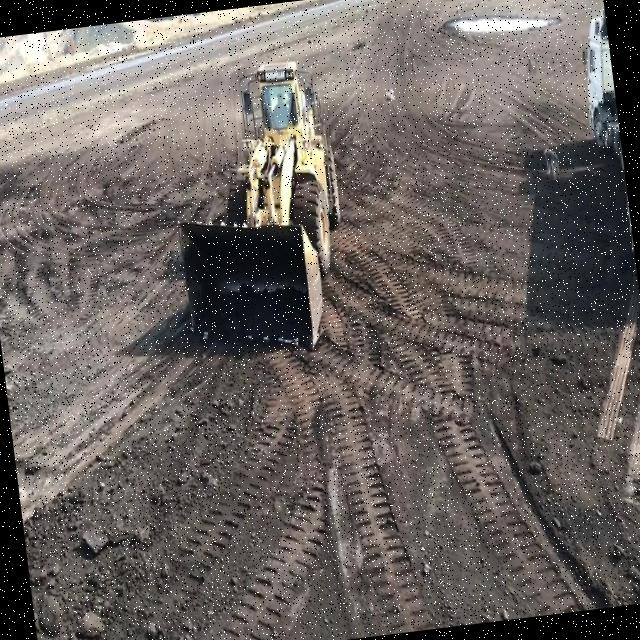Dump Truck: (573, 5, 623, 165)
Loader: (150, 50, 358, 364)
